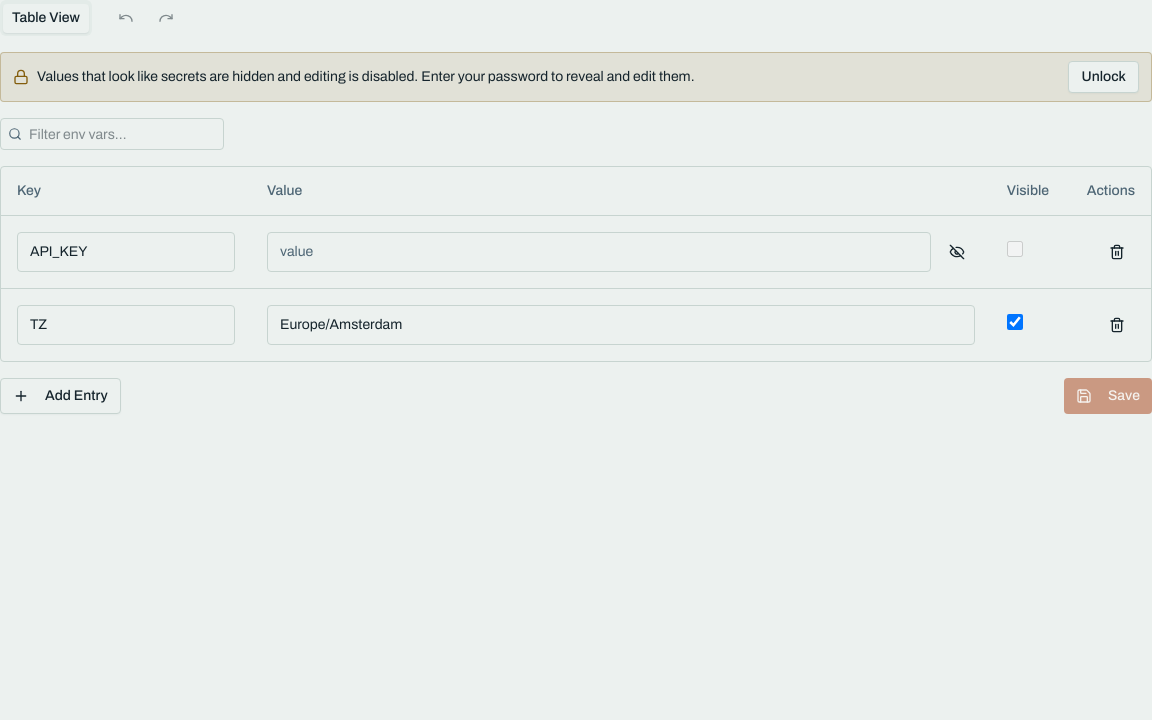
Scenario: EnvEditor with a redacted (locked) payload › unlocking refetches and re-enables editing with the real values
Click the button "Unlock".
click(1104, 77)  # box [1068,61,1139,93]
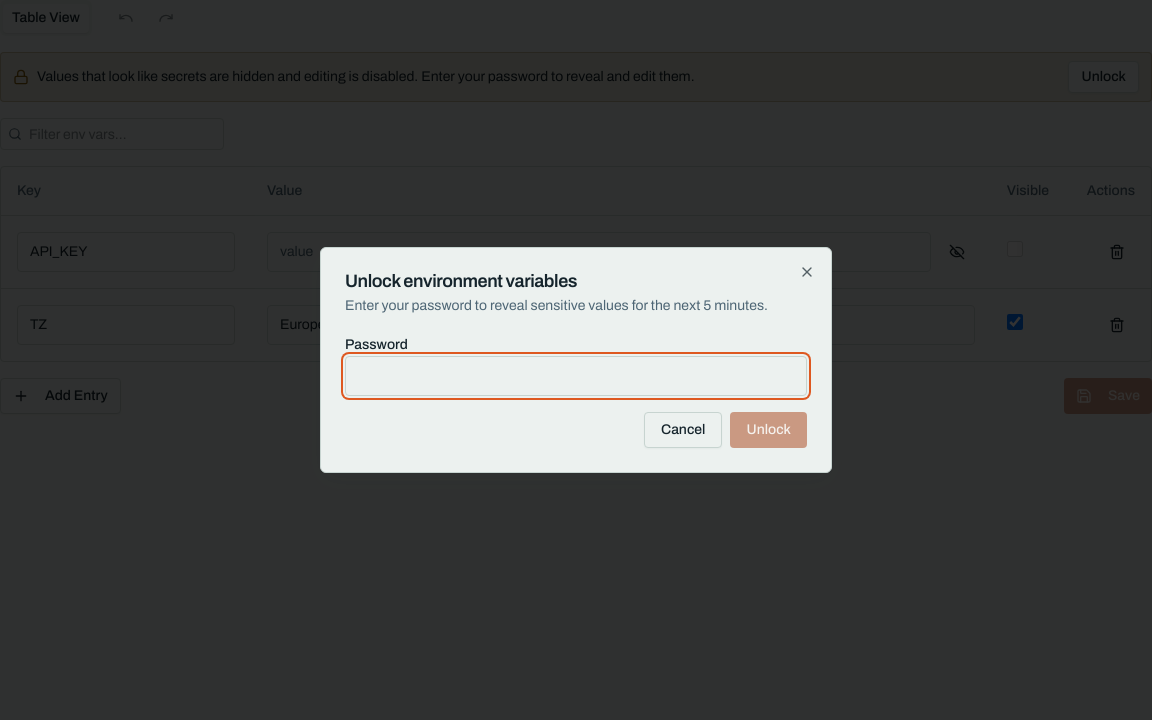
Expected: the heading "Unlock environment variables" is shown, [345,271,577,291]
Type "correct-password" into the password field labelled "Password".
click(576, 376); type("correct-password")  # box [345,356,807,396]
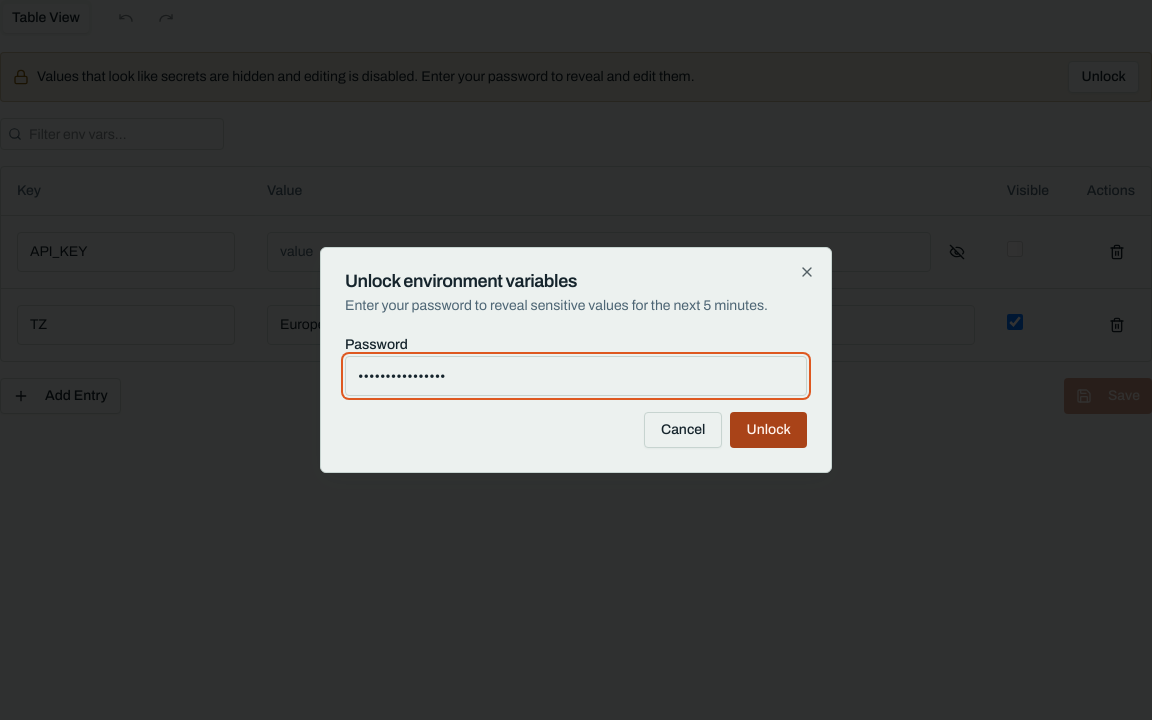
Click the button "Unlock".
click(769, 430)  # box [730,412,807,448]
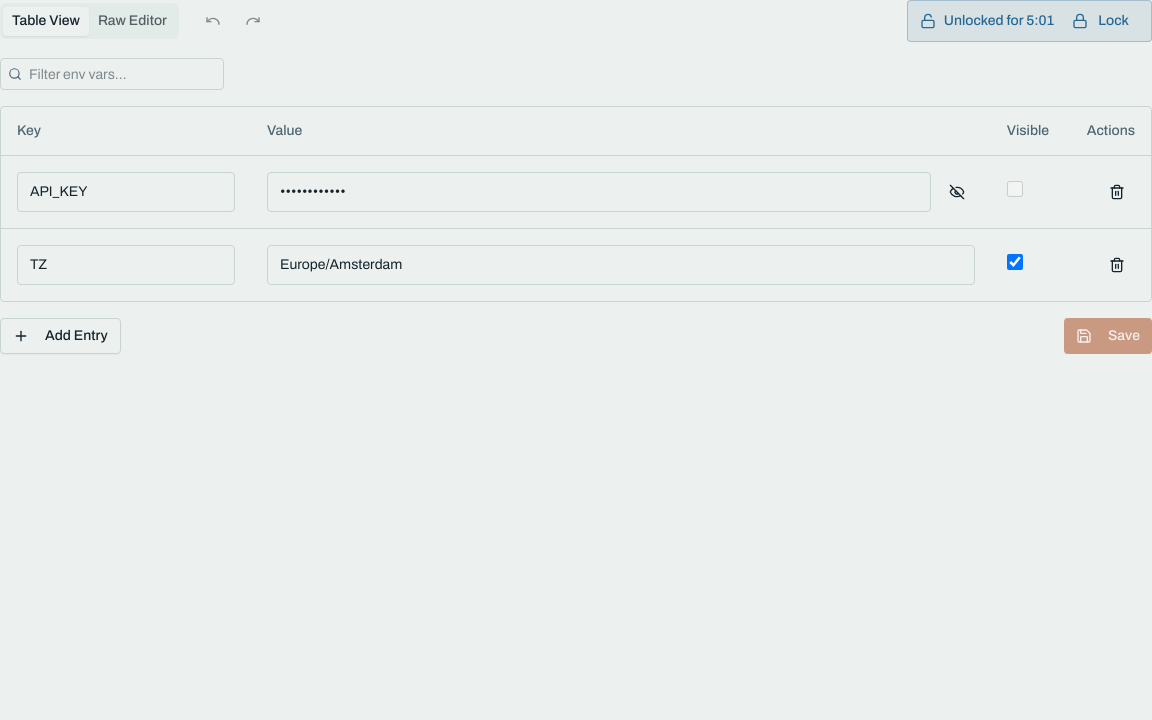
Expected: the text "Values that look like secrets are hidden" is gone
Expected: the tab "Raw Editor" is shown, [89,6,176,36]
Expected: the password field showing "secret-value" is shown, [267,172,931,212]
